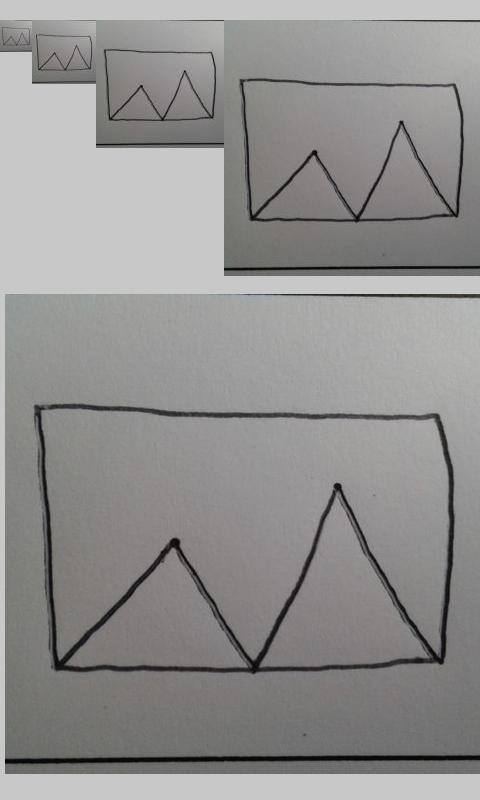image_view: (33, 401, 456, 676), (239, 78, 464, 225), (103, 47, 217, 123), (35, 33, 93, 72), (1, 26, 31, 47)
